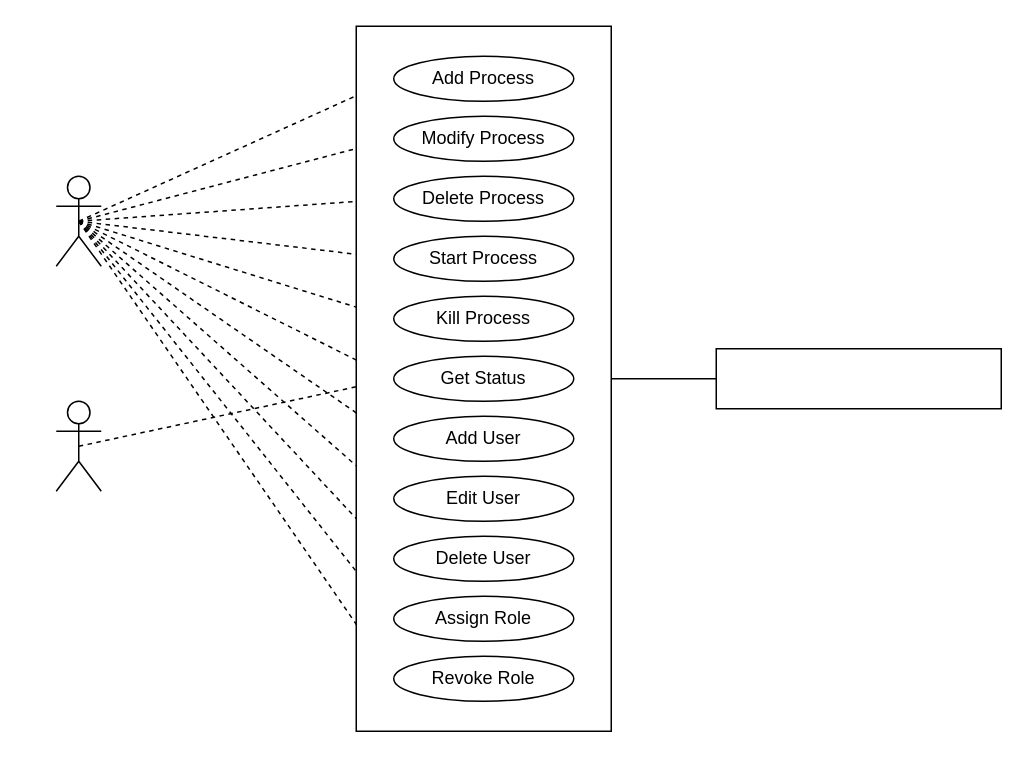
The diagram is 1028 pixels wide and 758 high, and some of its shapes have lost their labels. Each missing label, with the centre of its shape:
"<<Actor>> Computer" belongs at pixel 858 378.
"Administrator" belongs at pixel 78 220.
"User" belongs at pixel 78 445.
